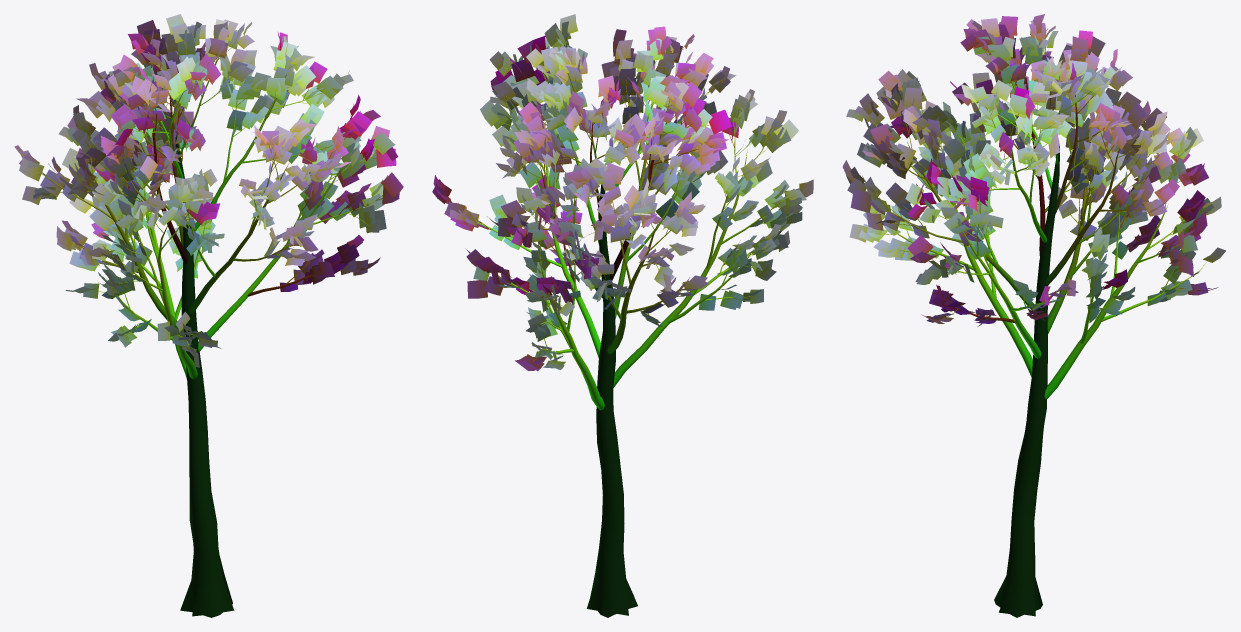
Rendered from populus_nigra.glb.
The picture shows the model from 3 angles, left to right: view 1: azimuth 30°, elevation 25°; view 2: azimuth 150°, elevation 25°; view 3: azimuth 270°, elevation 25°; orthographic projection.
Visible parts, largest first — view 1: populus_nigra_lod0; view 2: populus_nigra_lod0; view 3: populus_nigra_lod0.
Boxes of the visible parts, <box> form: populus_nigra_lod0: <box>14,14,403,617</box>; populus_nigra_lod0: <box>432,14,813,617</box>; populus_nigra_lod0: <box>842,14,1225,617</box>.
Size of what is drawn, in the model's own units: 13.37 by 22.1 by 13.49.
